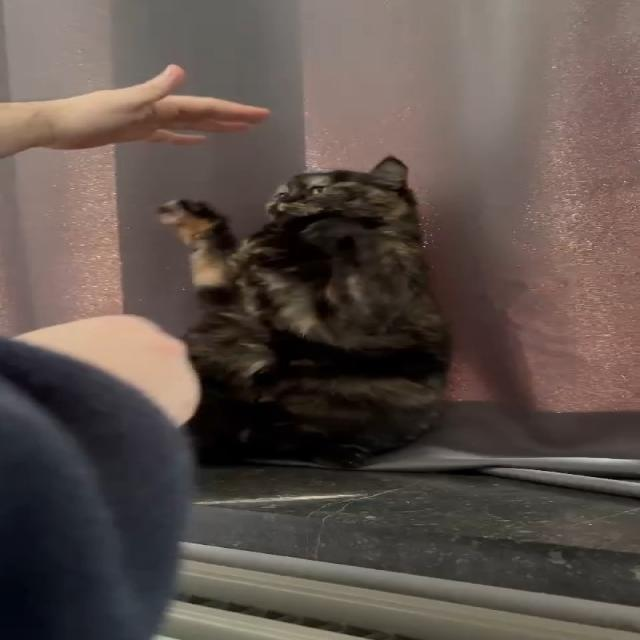authorized: (156, 154, 452, 469)
